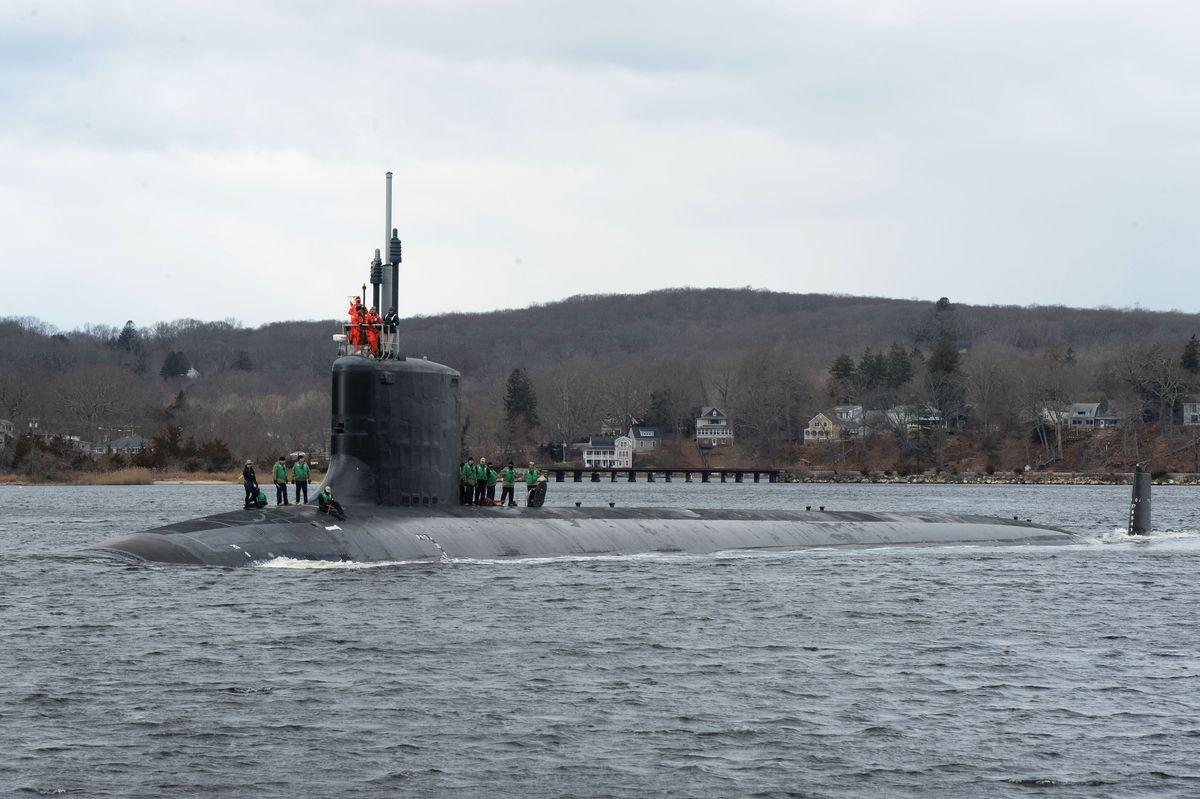Submarine: (86, 166, 1168, 690)
